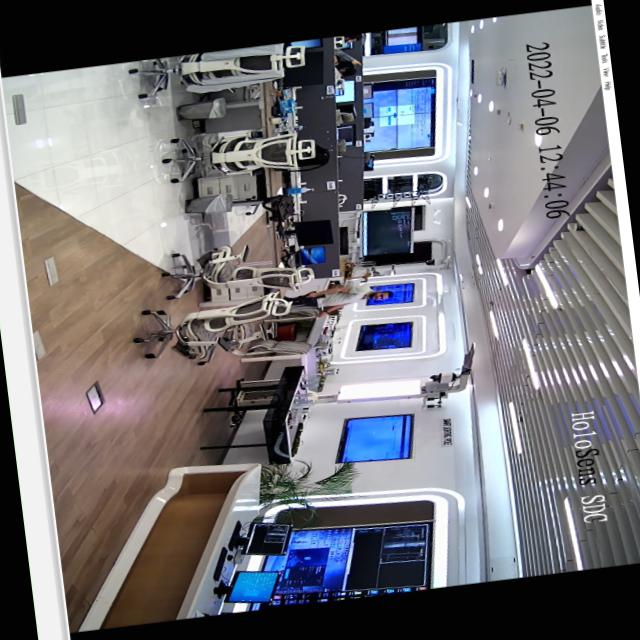long weapon: (270, 286, 338, 308)
